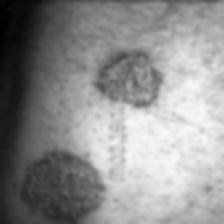Non-Cancerous Skin Condition: (125, 38, 200, 216), (14, 150, 105, 224)
